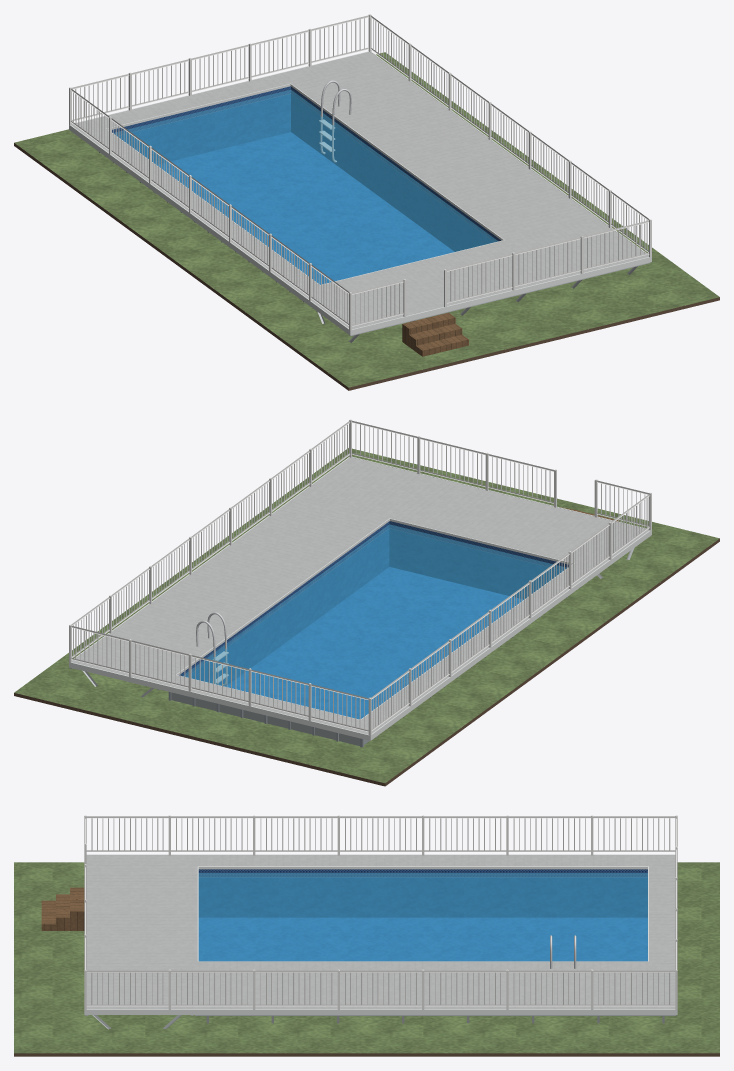
Rendered from kayak-pool-16x32-gray-endside-rec-fence.04c198d35b.glb.
3 renders of one model, top to bottom at view 1: azimuth 30°, elevation 25°; view 2: azimuth 150°, elevation 25°; view 3: azimuth 270°, elevation 25°, orthographic. The views are drawn at different scales.
Visible parts, largest first — view 1: deck, water, ground, fence, liner_floor, liner_wall, fascia, soil, steps, steel, stud; view 2: deck, water, ground, fence, liner_floor, liner_wall, fascia, soil, wall, steel; view 3: deck, ground, water, liner_wall, liner_floor, fence, fascia, soil, steps, stud.
Boxes of the visible parts, box(x1,y1,x2,y2) form: deck: box(71, 52, 648, 329); water: box(114, 89, 497, 284); ground: box(14, 52, 719, 387); fence: box(69, 14, 651, 330); liner_floor: box(157, 132, 454, 284); liner_wall: box(112, 86, 500, 251); fascia: box(69, 51, 651, 335); soil: box(14, 143, 719, 390); steps: box(402, 312, 468, 356); steel: box(319, 80, 351, 162); stud: box(299, 262, 650, 342); deck: box(72, 457, 649, 734); water: box(182, 524, 566, 718); ground: box(14, 448, 719, 783); fence: box(69, 419, 651, 735); liner_floor: box(226, 567, 523, 718); liner_wall: box(179, 521, 568, 686); fascia: box(69, 456, 651, 740); soil: box(14, 538, 719, 786); wall: box(171, 692, 369, 745); steel: box(196, 612, 228, 685); deck: box(86, 855, 675, 1008); ground: box(14, 862, 719, 1053); water: box(198, 873, 647, 961); liner_wall: box(198, 869, 647, 917); liner_floor: box(198, 917, 647, 961); fence: box(84, 815, 677, 1009); fascia: box(84, 854, 677, 1014); soil: box(14, 1053, 719, 1056); steps: box(41, 887, 84, 930); stud: box(85, 1015, 676, 1029).
Bounding box in the file's own units: 9.75 × 2.15 × 15.23.
13 materials, 5 textured.
